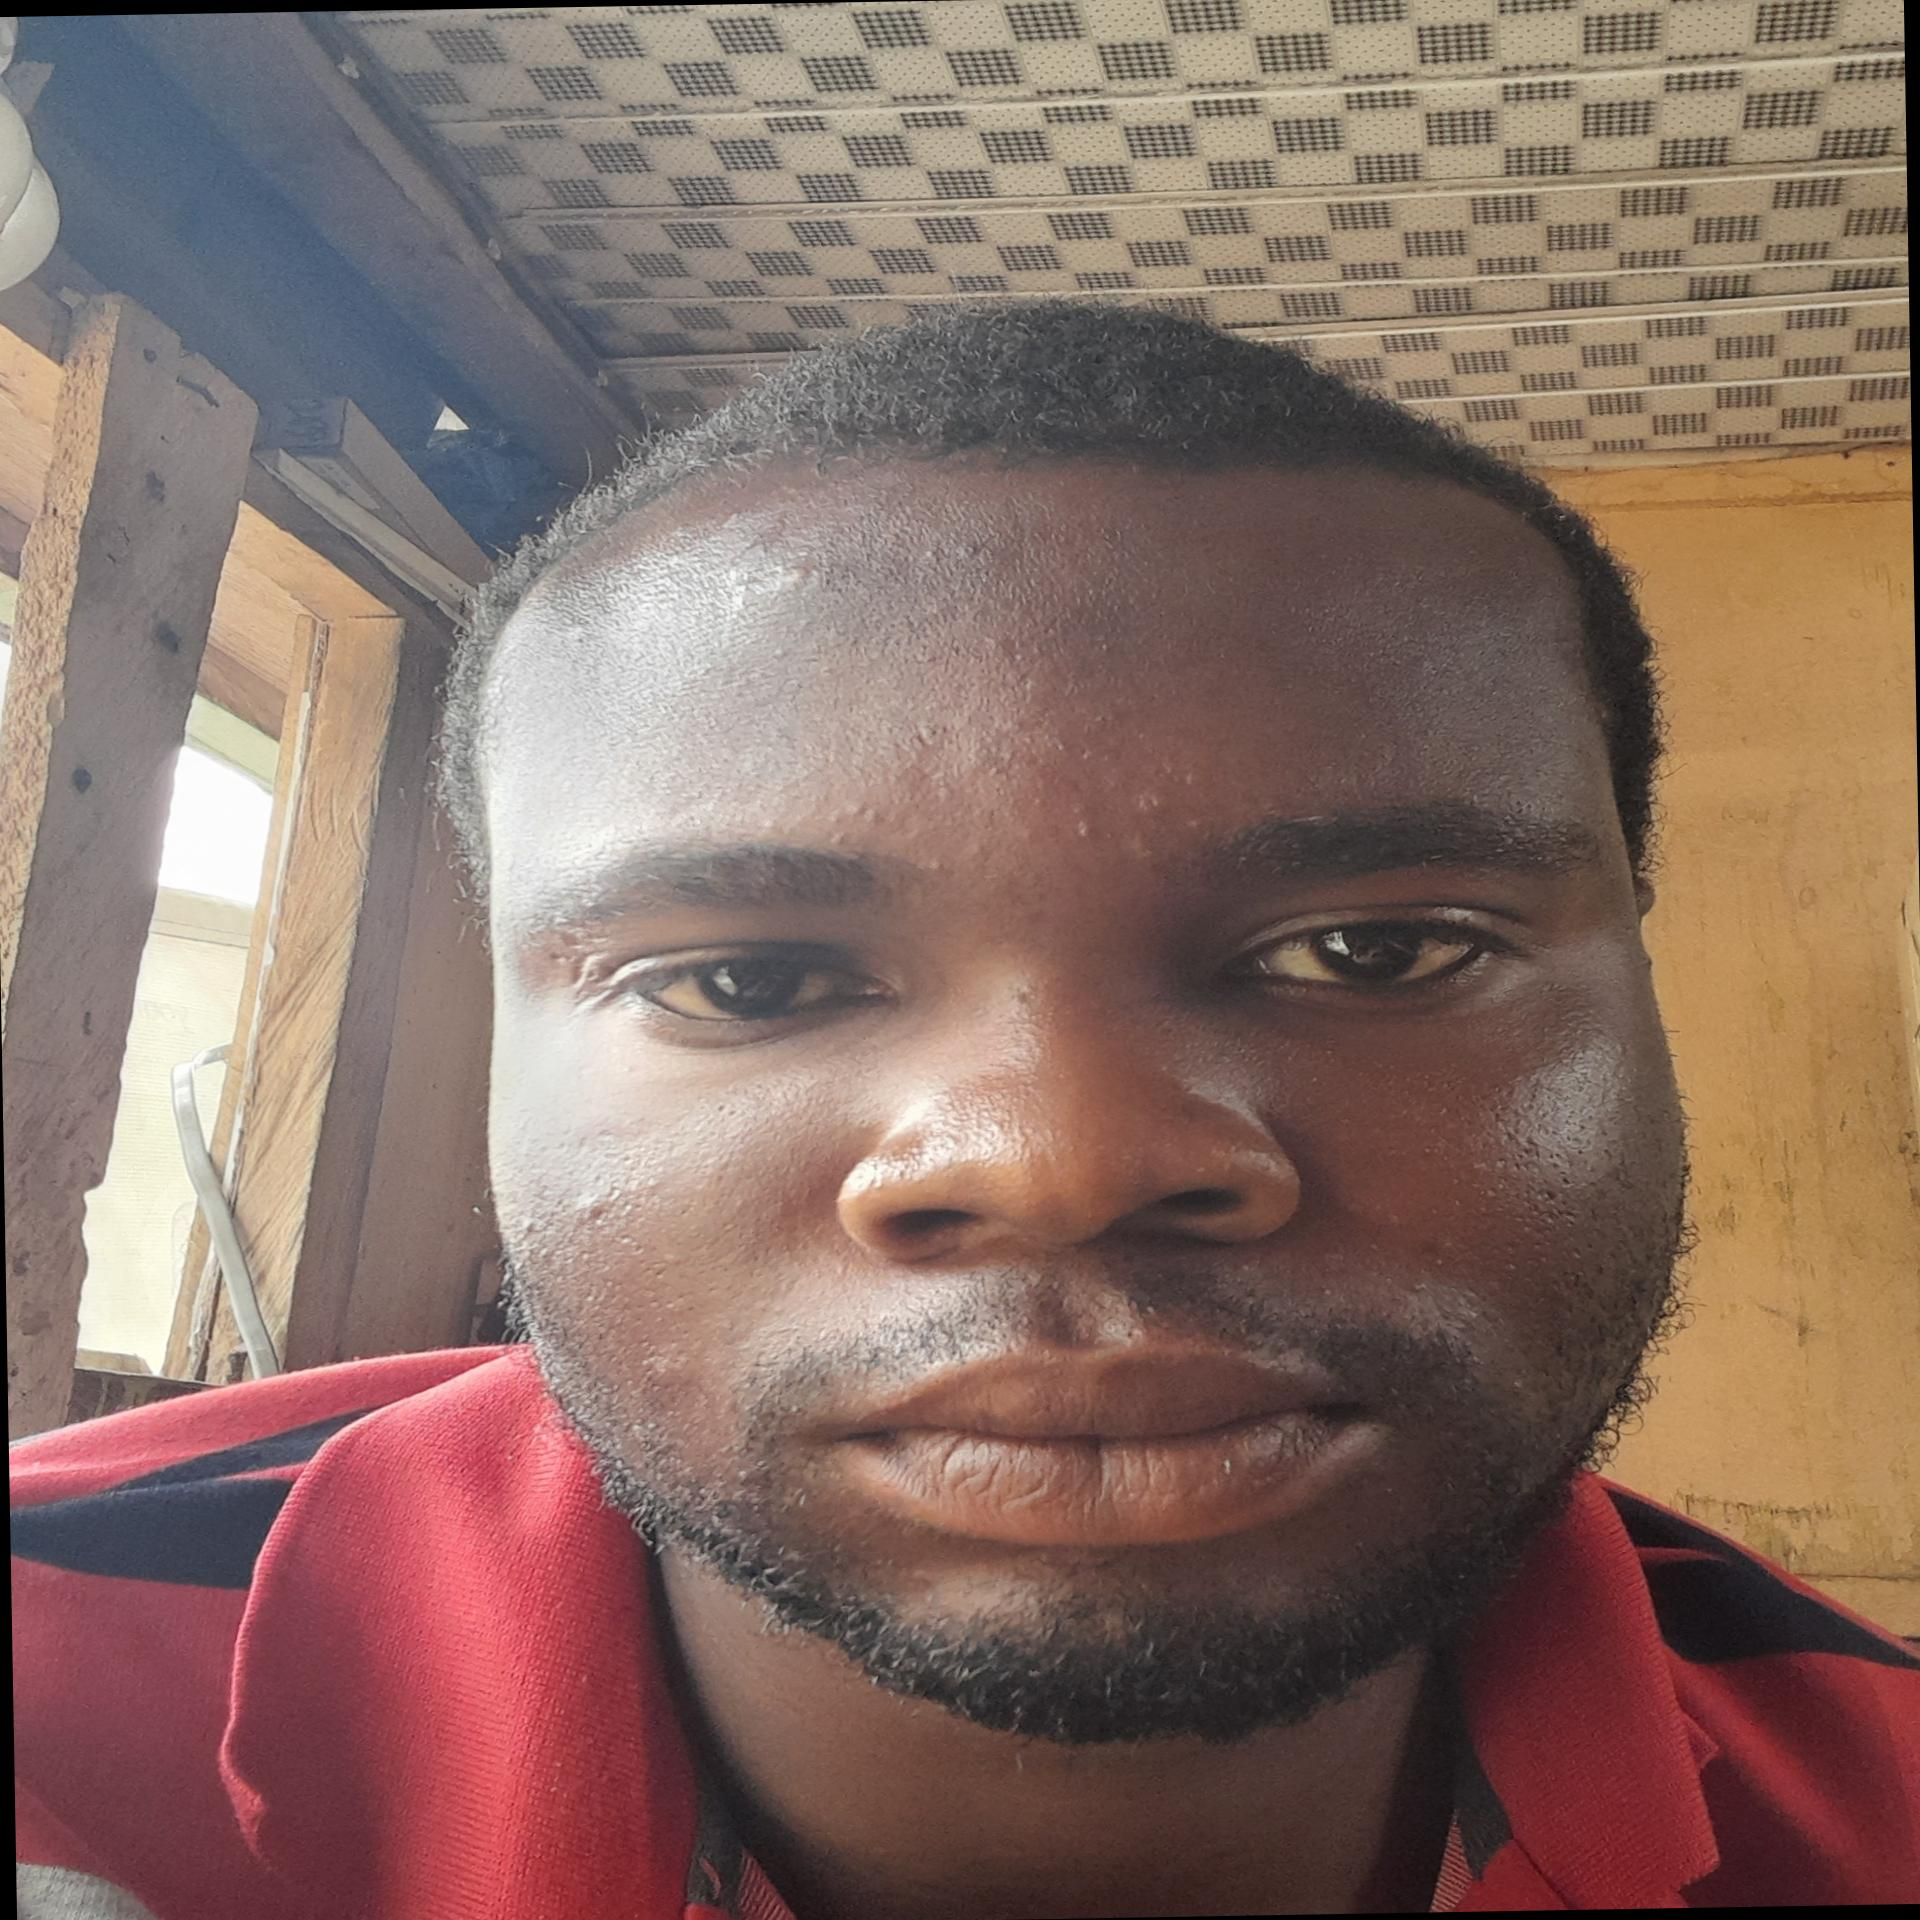Acne: (918, 538, 979, 568), (570, 1190, 612, 1224), (1412, 1234, 1454, 1268), (1131, 788, 1171, 814), (774, 561, 816, 585), (842, 798, 884, 823), (1064, 818, 1102, 840), (907, 1561, 935, 1589)
Englarged Pores: (501, 1122, 672, 1308), (1454, 1085, 1621, 1255), (1329, 1055, 1496, 1127), (698, 1071, 826, 1143)
